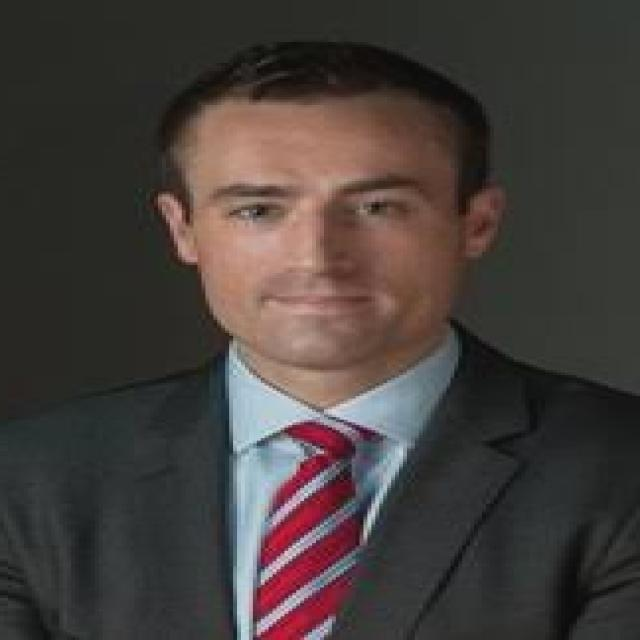normal_face: (187, 86, 460, 364)
